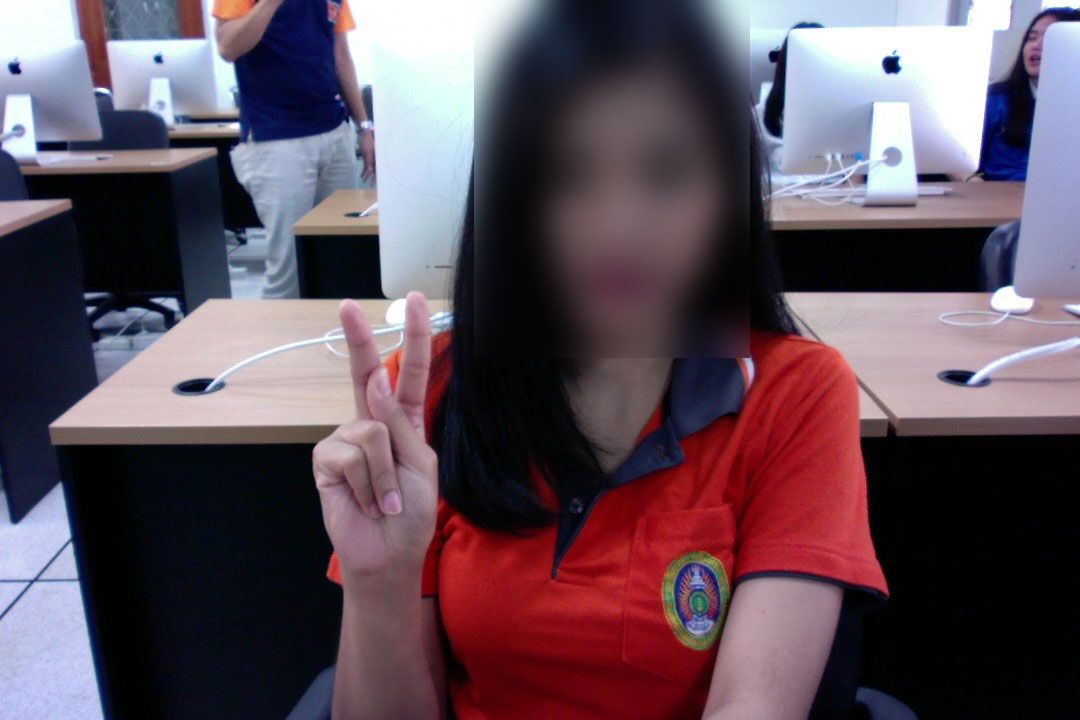ko: (306, 275, 456, 590)
